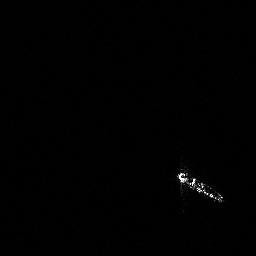ship: (175, 165, 227, 207)
